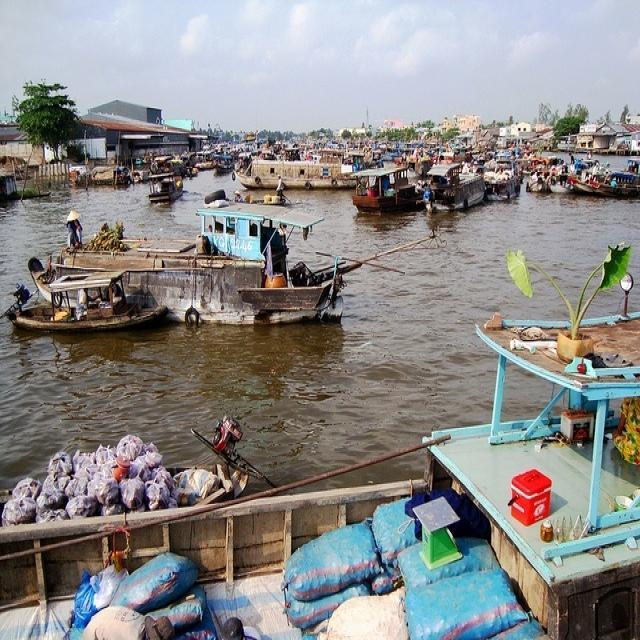boat: (2, 309, 640, 640), (28, 228, 360, 330), (0, 459, 255, 527), (5, 300, 168, 341), (232, 157, 368, 190), (345, 164, 424, 217), (425, 167, 488, 215), (148, 176, 184, 217), (230, 193, 306, 207)
